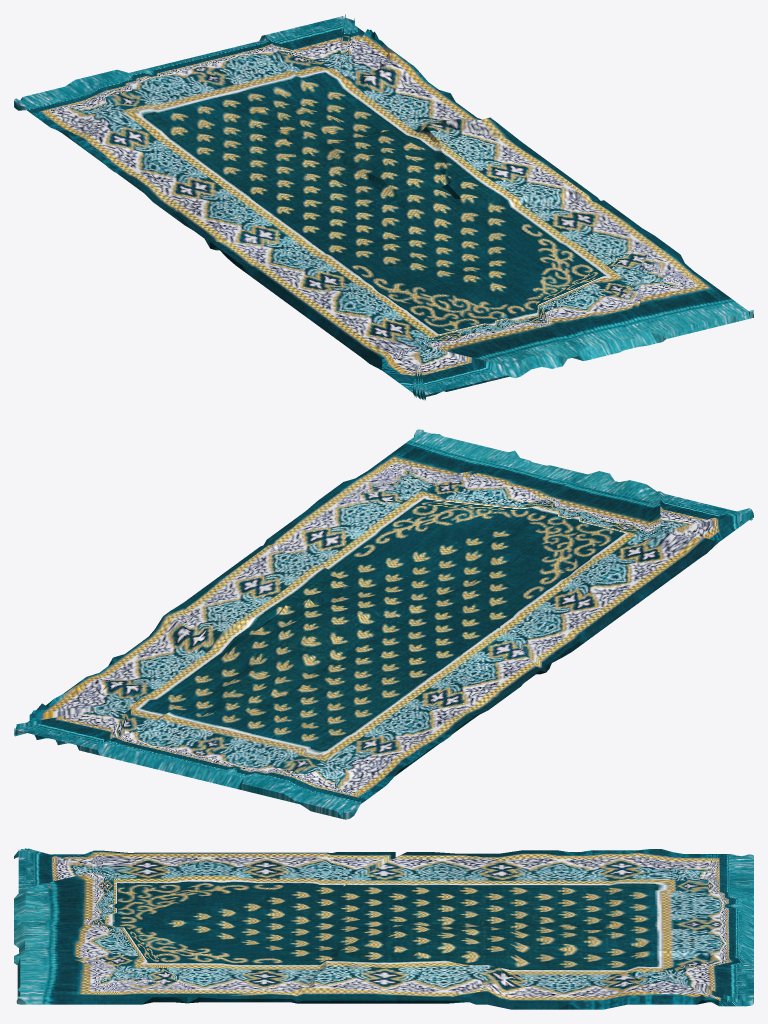
The model's file is prayermat.fbx.
3 views of the same model, one above another, from view 1: azimuth 30°, elevation 25°; view 2: azimuth 150°, elevation 25°; view 3: azimuth 270°, elevation 25° (orthographic). The views are drawn at different scales.
Visible parts, largest first — view 1: Plane.001; view 2: Plane.001; view 3: Plane.001.
Boxes of the visible parts, left/top/right/bottom form: Plane.001: left=14, top=14, right=753, bottom=400; Plane.001: left=14, top=429, right=753, bottom=819; Plane.001: left=14, top=848, right=753, bottom=1009.
Bounding box in the file's own units: 546 × 30.54 × 1150.
Materials: 1 (1 with a texture image).
